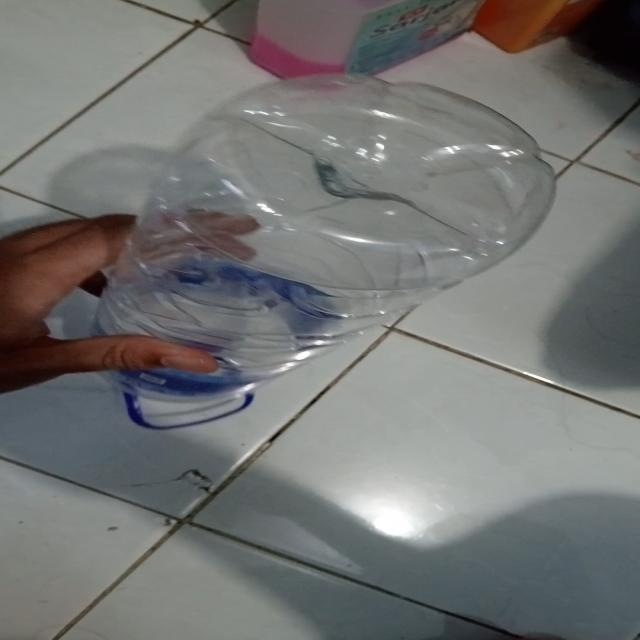Botol bekas: (88, 71, 557, 430)
